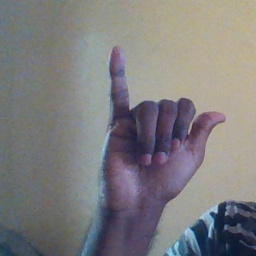J: (92, 44, 228, 207)
